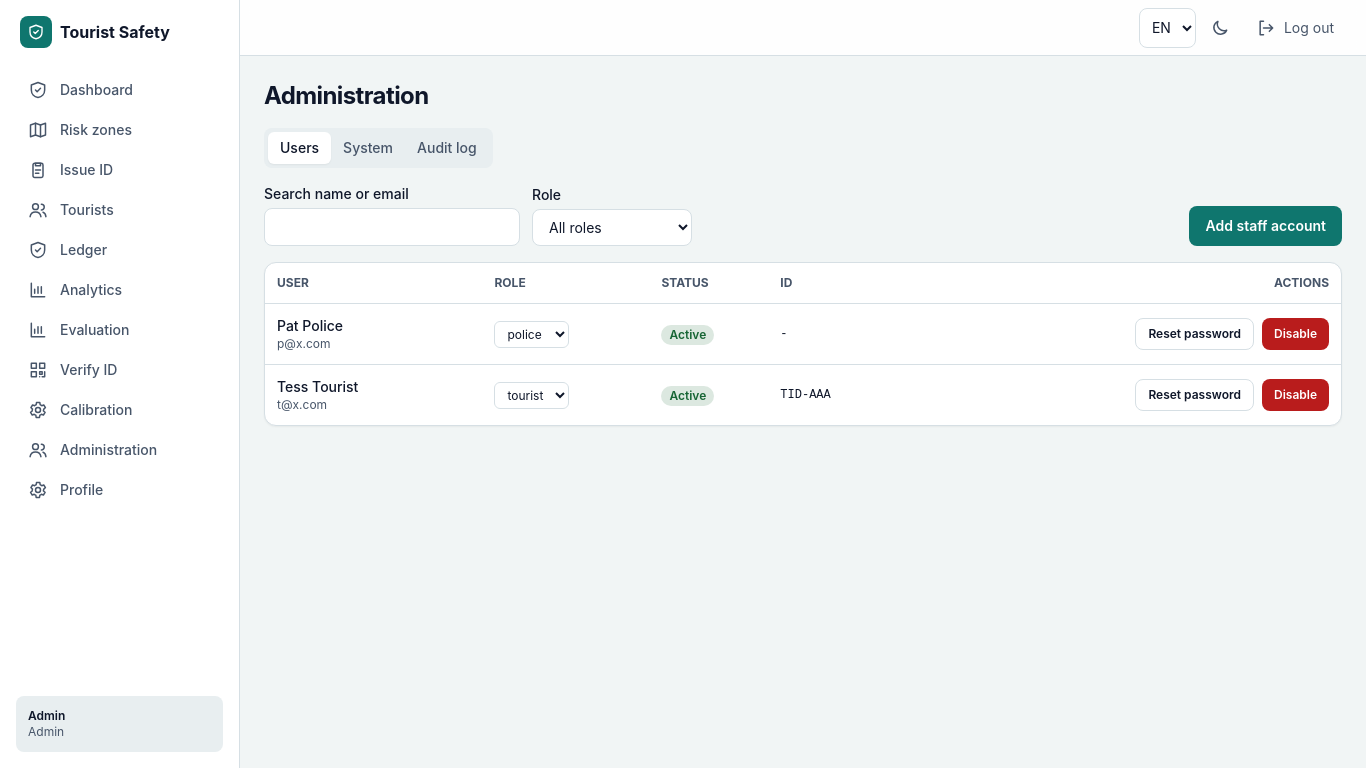
Scenario: Users tab › server refusal (last admin) is shown as an error toast
Expected: the text "Pat Police" is shown, [277,317,343,334]
Click the button "Disable" in the row of "Pat Police": [1296, 334] box [1262,318,1329,350]
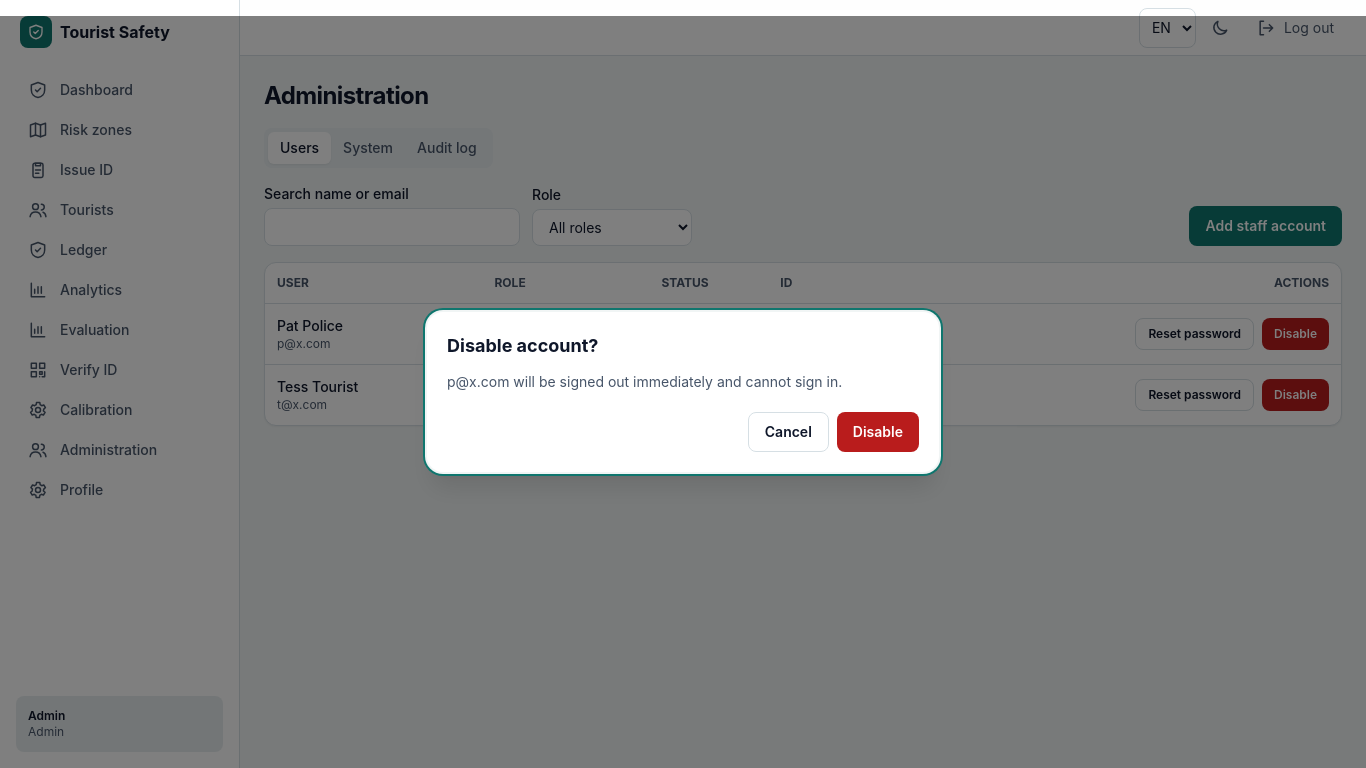
Click the button "Disable": [878, 432] box [837,412,919,452]
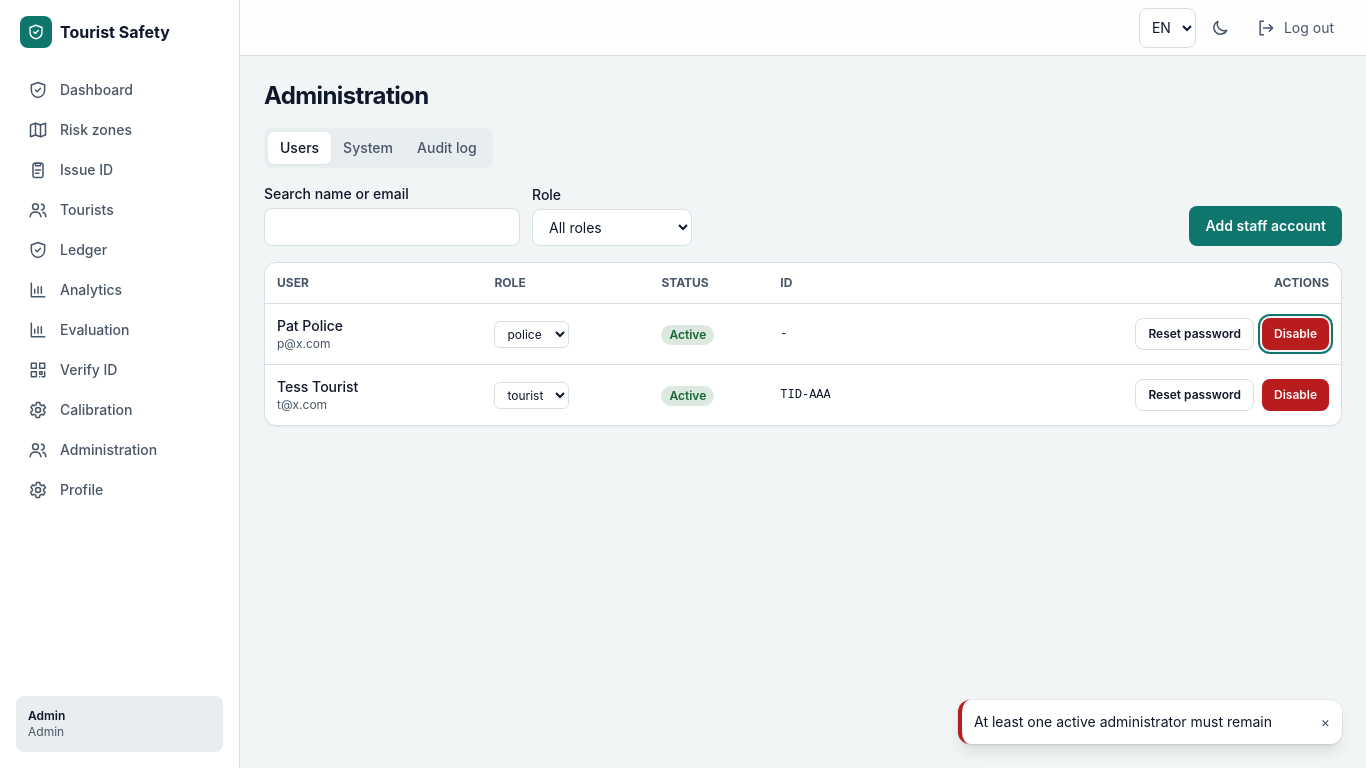
Now the message shows "At least one active administrator must remain", box [974,713,1272,730]
